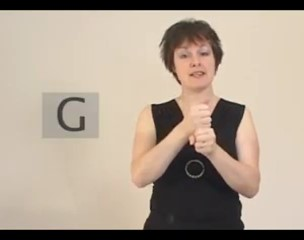G: (183, 95, 221, 161)
